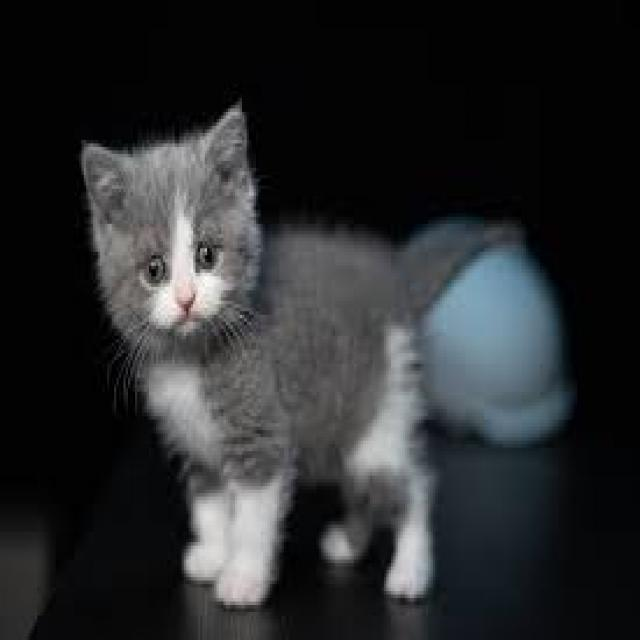Cat: (78, 103, 529, 611)
